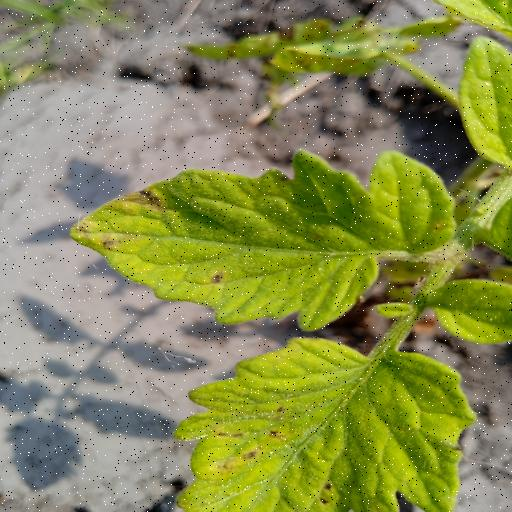Tomato_Brown_Spots: (38, 147, 391, 337)
